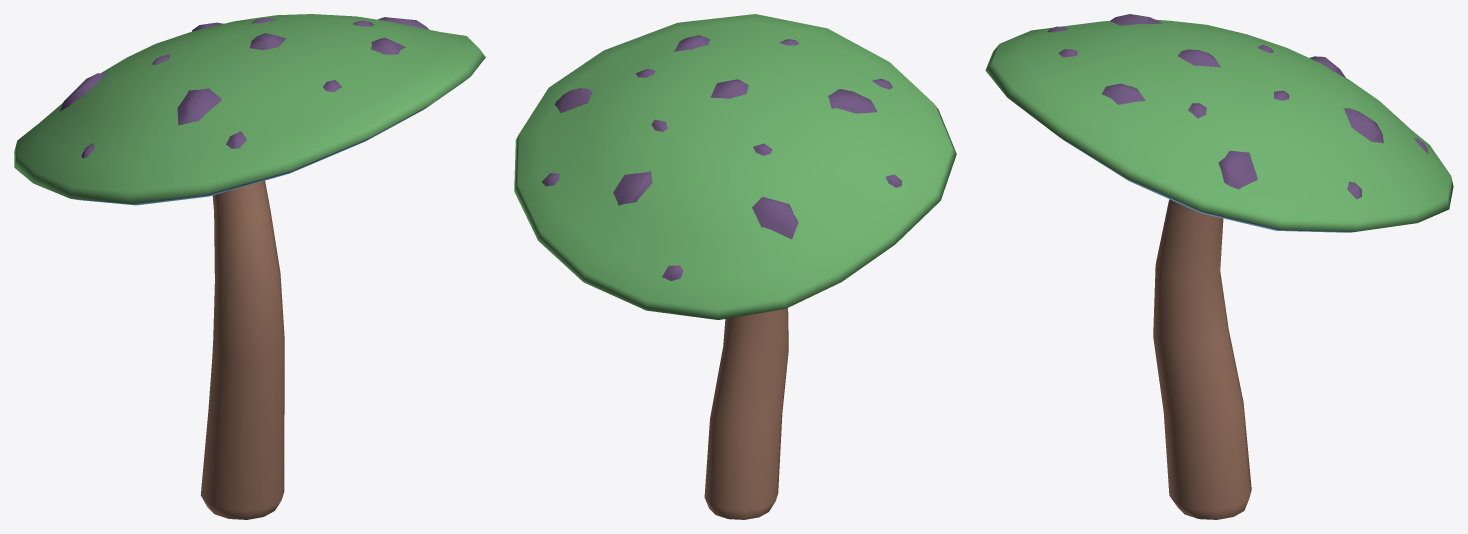
Rendered from Mushroom_2.fbx.
3 renders of one model, left to right at view 1: azimuth 30°, elevation 25°; view 2: azimuth 150°, elevation 25°; view 3: azimuth 270°, elevation 25°, orthographic. The views are drawn at different scales.
Visible parts, largest first — view 1: Mushroom_2; view 2: Mushroom_2; view 3: Mushroom_2.
Part boxes in pixels (x1,y1,x2,y2): Mushroom_2: [14, 14, 485, 519]; Mushroom_2: [514, 14, 956, 519]; Mushroom_2: [985, 14, 1453, 519].
Size of the model in its own units: 305 by 325 by 296.
